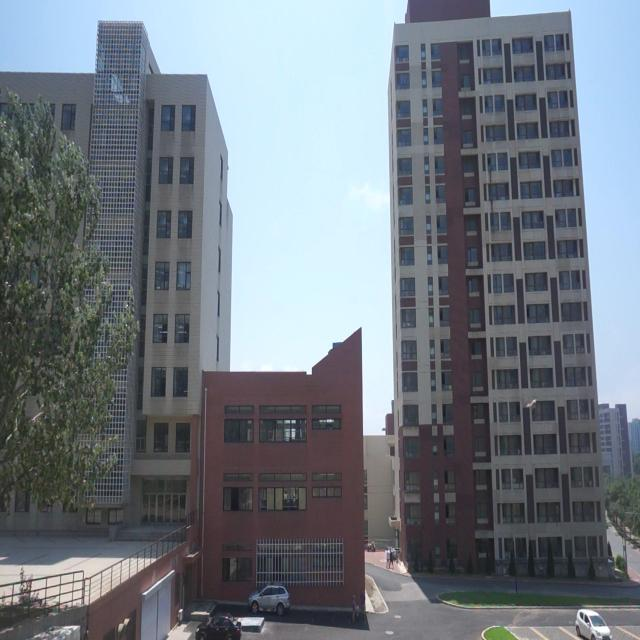drone: (524, 393, 540, 417)
